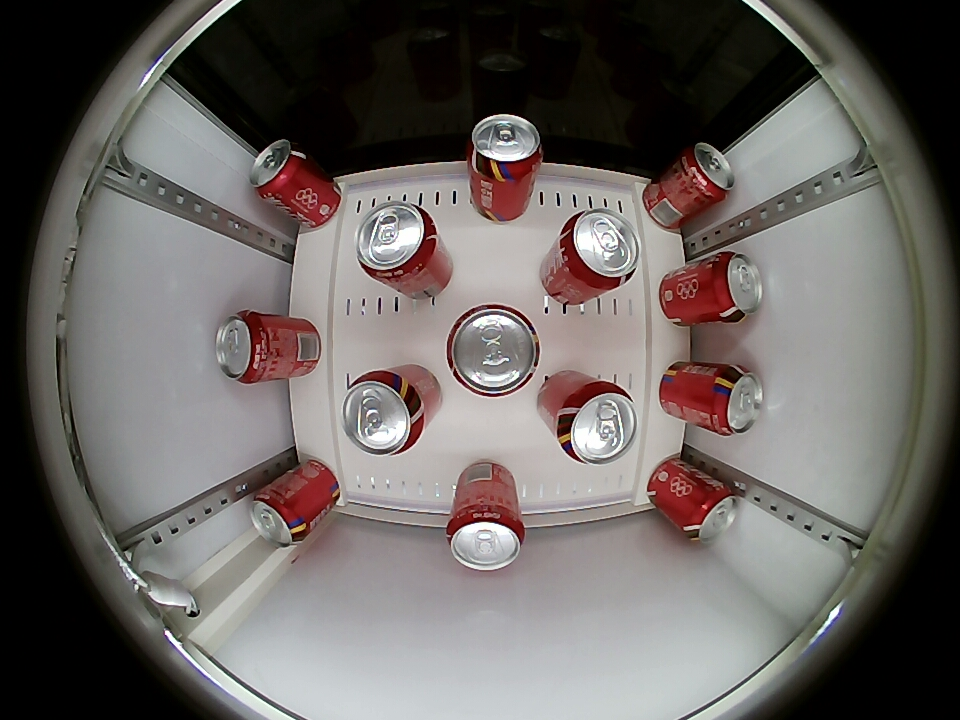kele: (445, 303, 543, 398), (341, 369, 429, 457), (553, 380, 639, 465), (356, 201, 440, 284), (557, 209, 641, 290), (445, 505, 525, 571), (468, 114, 543, 181), (706, 364, 764, 437), (215, 310, 272, 384), (708, 251, 764, 323), (249, 139, 306, 203), (250, 485, 308, 546), (680, 142, 736, 205), (684, 481, 739, 543)
